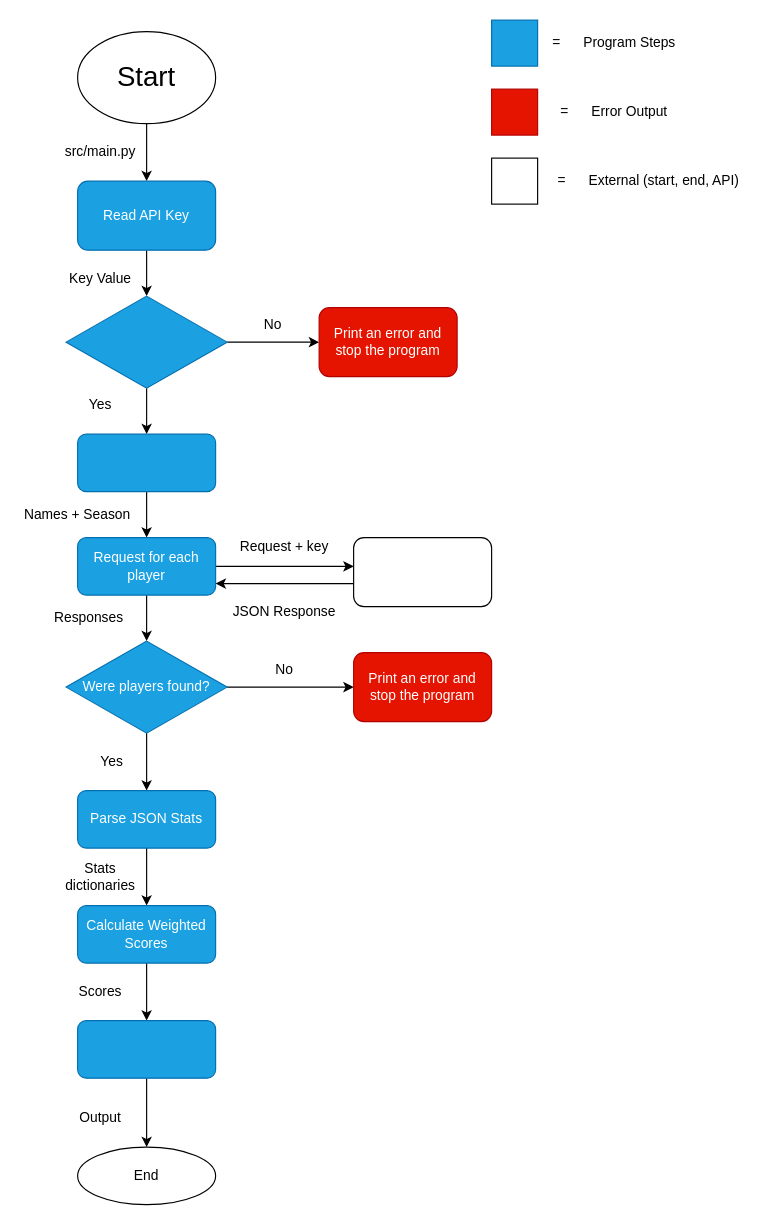
Image size: 764x1225. Some labels were removed from this diagram. Each missing label, with the centre of its shape:
Ask for players and season: the point at 146,462
NBA Stats API Key: the point at 422,571
Print table and who better player is: the point at 146,1048
Was there a key found?: the point at 146,341
